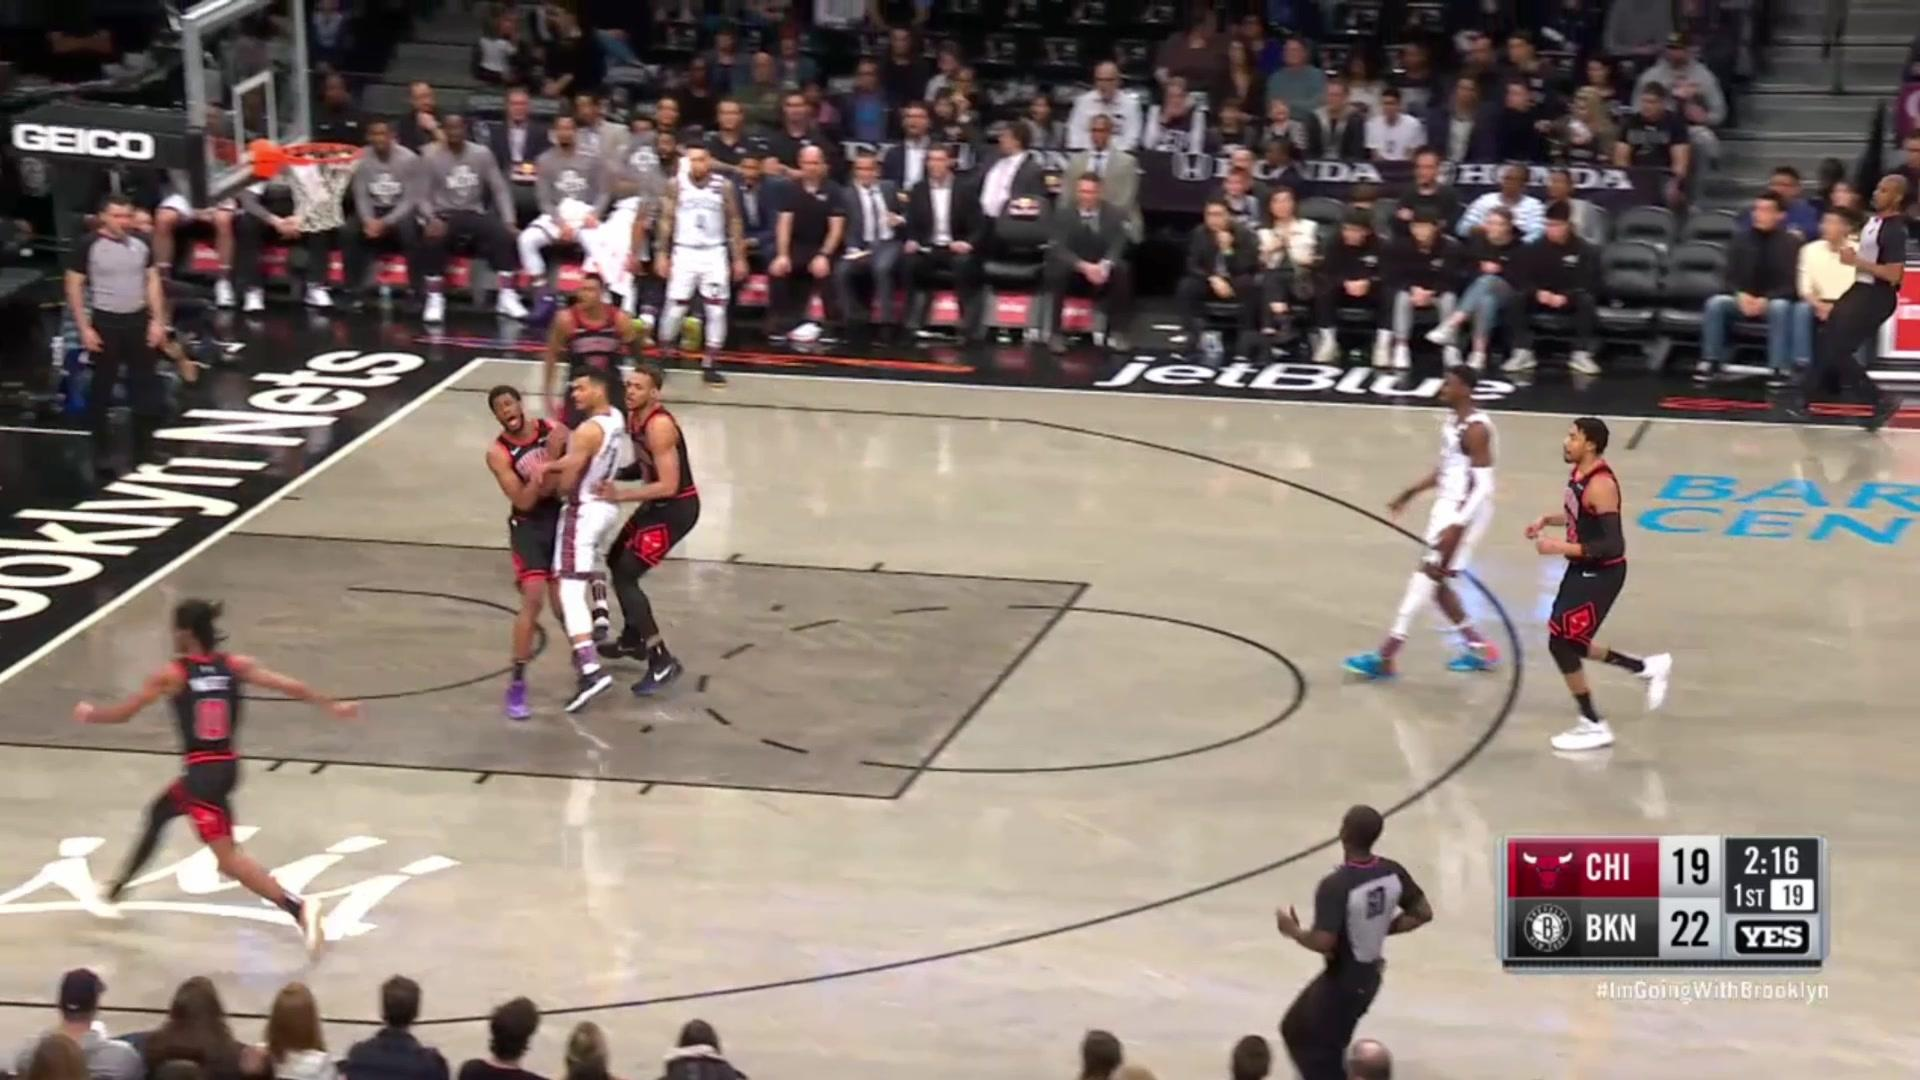foul: (481, 367, 633, 725)
